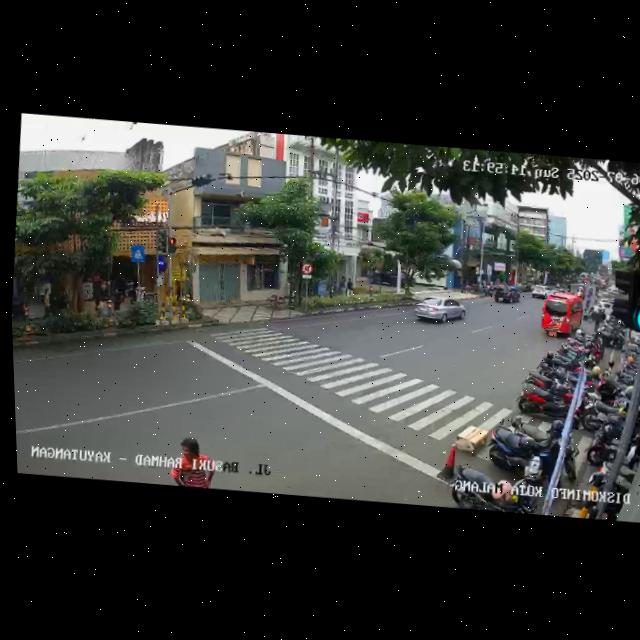car: (538, 292, 586, 340), (411, 294, 468, 331), (490, 283, 521, 305)
person: (160, 432, 226, 489)
